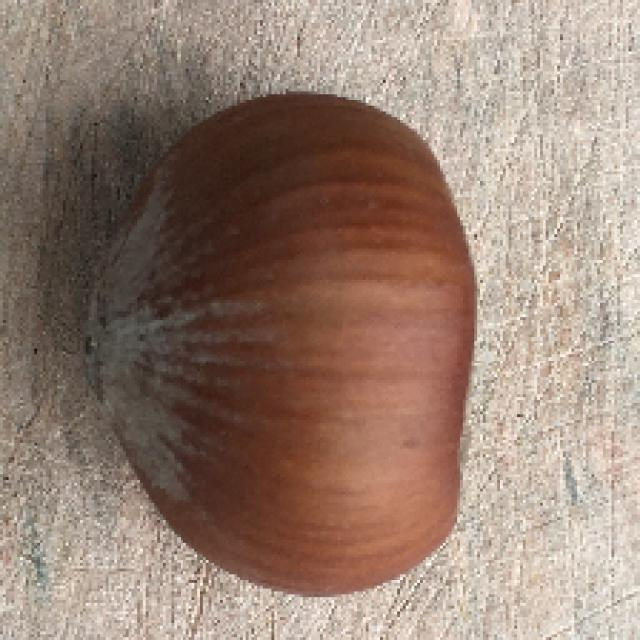DamagedHazelnut: (86, 96, 479, 594)
